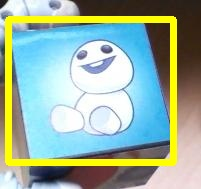Blue1: (8, 19, 173, 162)
